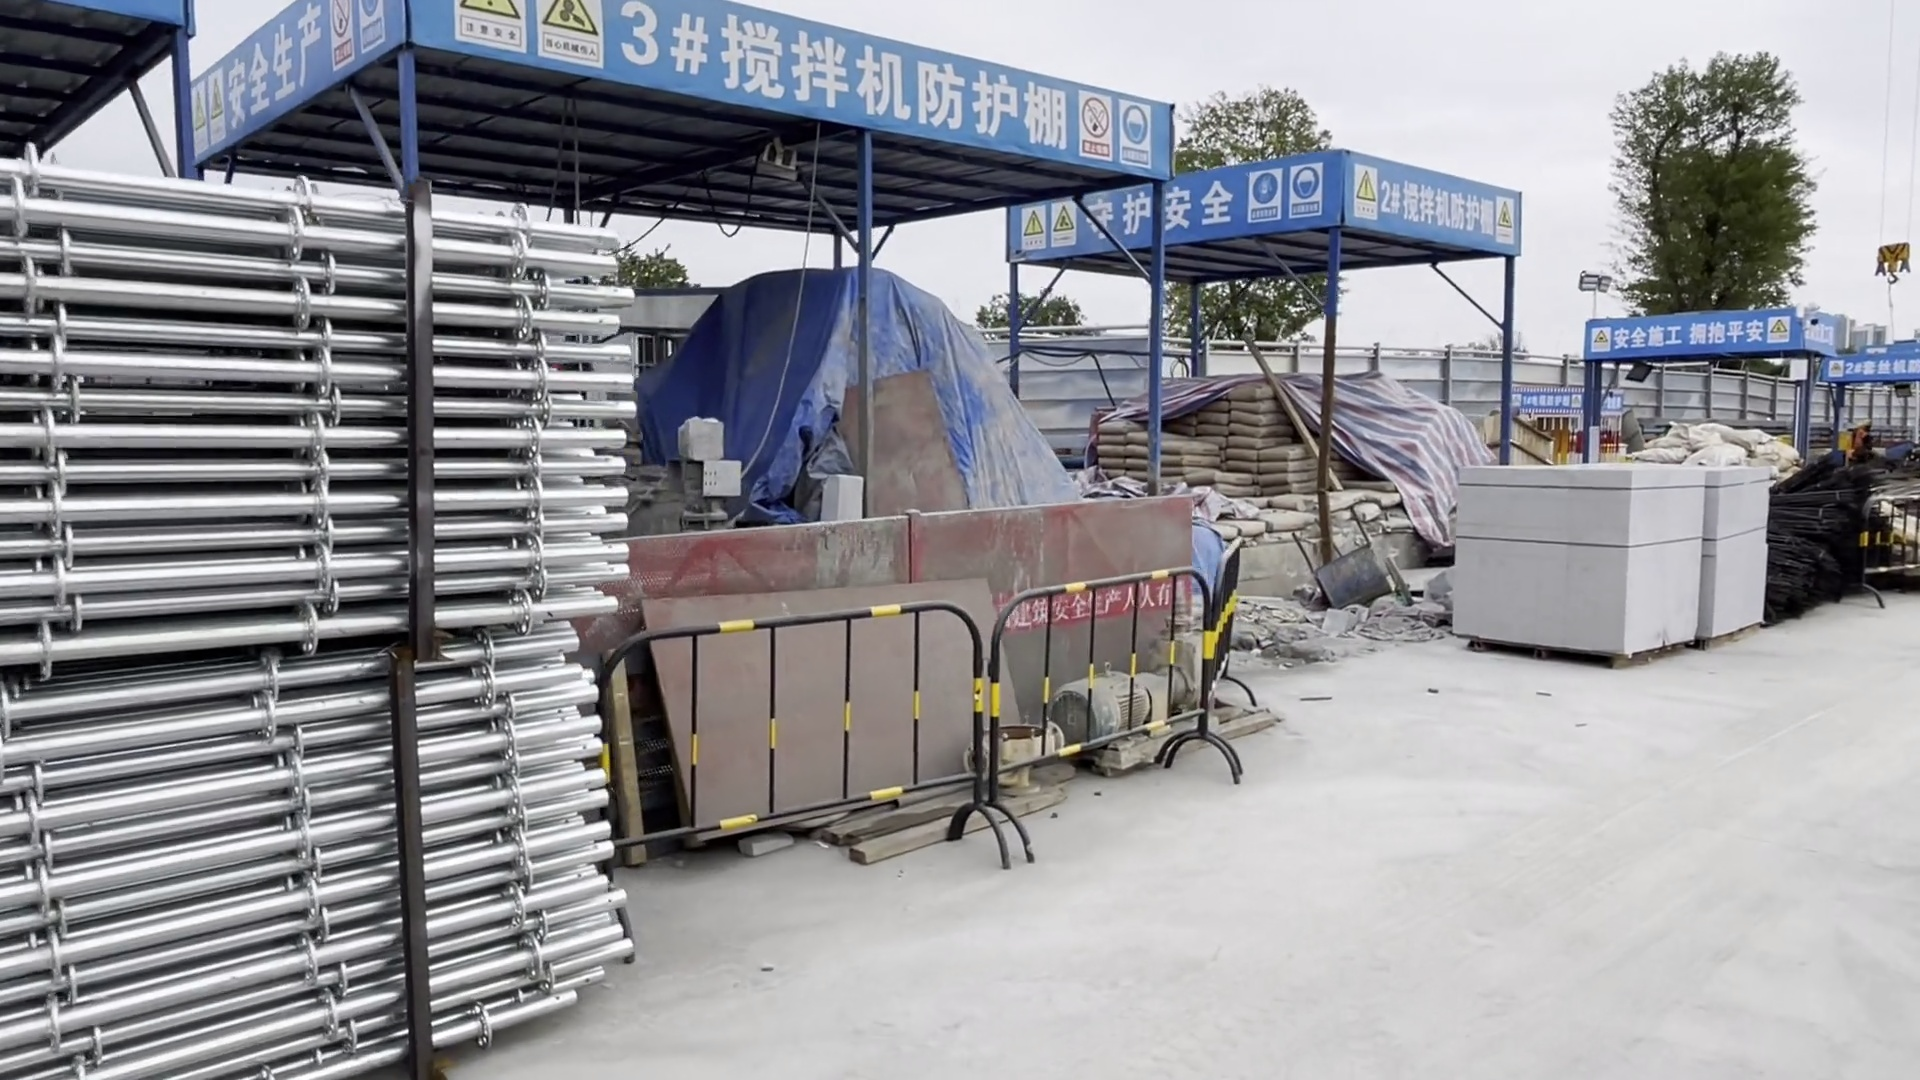brick: (1455, 462, 1705, 670), (1684, 465, 1774, 661)
scaffold: (1, 158, 646, 650), (1, 601, 632, 1073)
slogan: (181, 4, 382, 149), (998, 167, 1312, 243), (444, 1, 626, 74), (1576, 311, 1800, 352), (1058, 88, 1154, 167)
